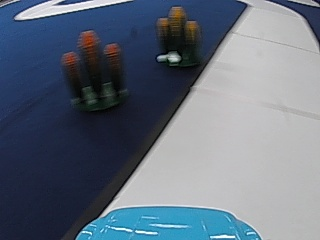tractor: (61, 26, 129, 114), (153, 3, 202, 69)
